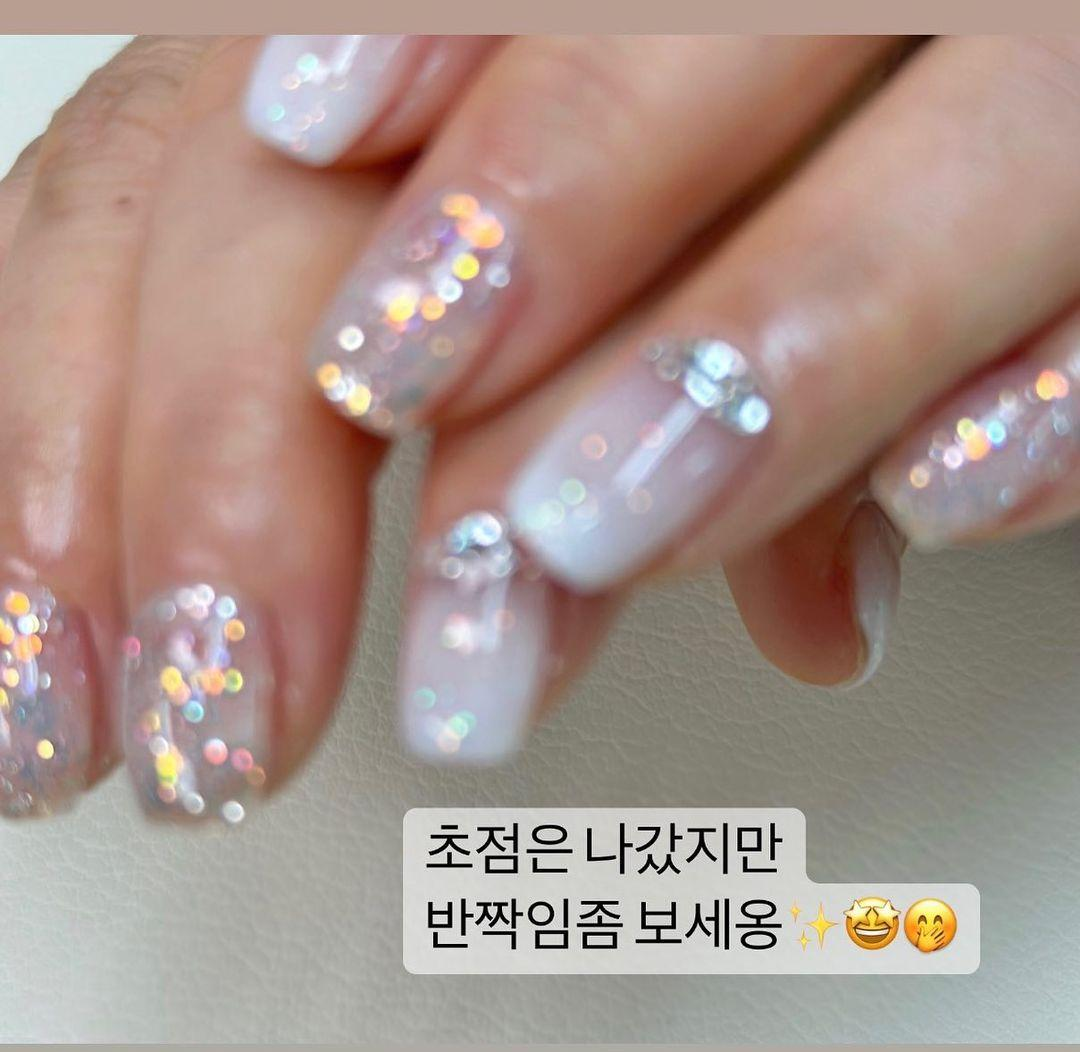nail: (502, 332, 773, 596), (303, 182, 530, 438), (866, 304, 1078, 554), (394, 508, 552, 768), (119, 581, 277, 824), (241, 33, 497, 170), (0, 577, 110, 818)
